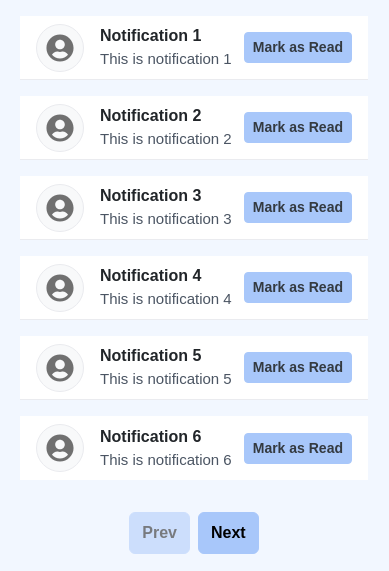
Pagination Visibility › should keep pagination visible when navigating beyond first page
Expected: the text "Notification 1" is shown, [100,27,201,44]
Click the button "Next". click: (228, 533)
box: [198,512,259,554]
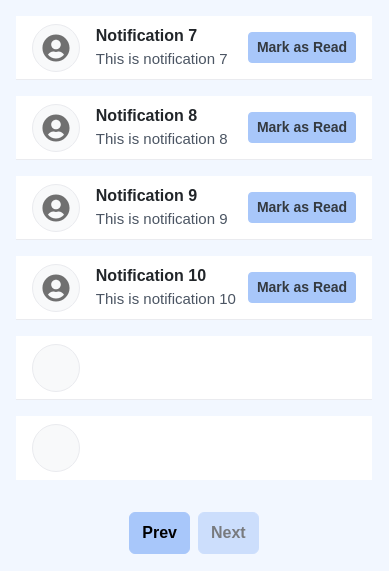
Expected: the button with test id "prev-button" is shown, [129,512,190,554]
Expected: the text "Notification 7" is shown, [96,27,197,44]
